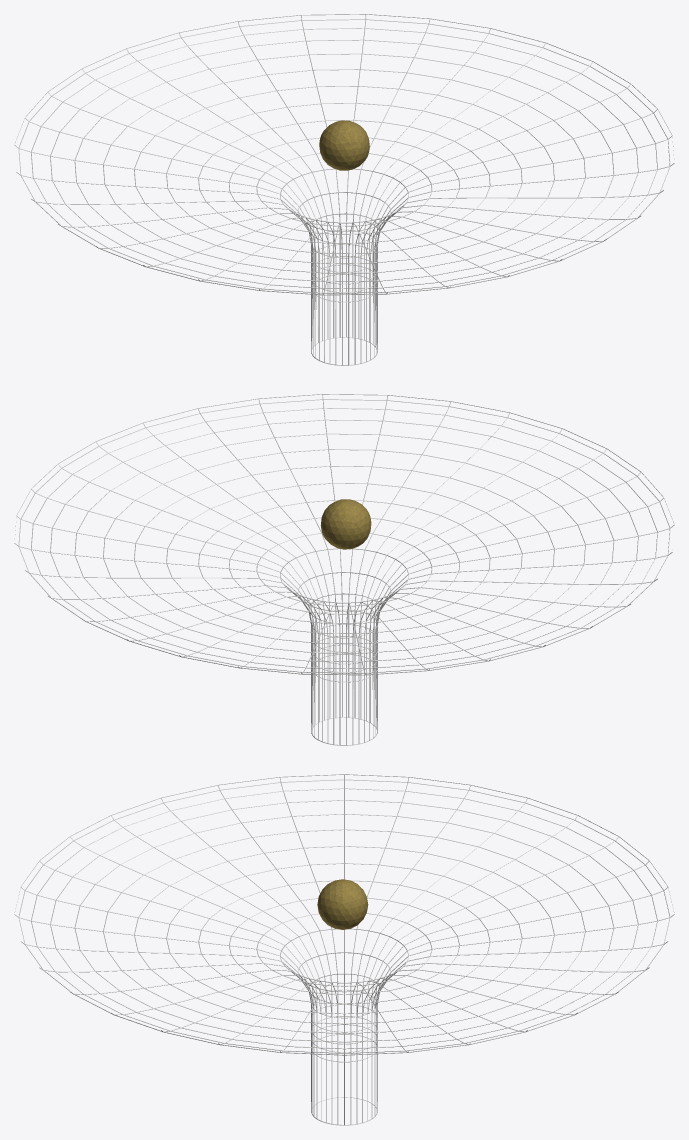
Rendered from globe v2-4 (1).gltf.
The picture shows the model from 3 angles, top to bottom: view 1: azimuth 30°, elevation 25°; view 2: azimuth 150°, elevation 25°; view 3: azimuth 270°, elevation 25°; orthographic projection.
Visible parts, largest first — view 1: Cylinder, Icosphere.000; view 2: Cylinder, Icosphere.000; view 3: Cylinder, Icosphere.000.
Boxes of the visible parts, <box> form: Cylinder: <box>14,14,674,365</box>; Icosphere.000: <box>319,120,369,170</box>; Cylinder: <box>14,394,674,745</box>; Icosphere.000: <box>320,499,371,549</box>; Cylinder: <box>14,774,674,1125</box>; Icosphere.000: <box>317,879,368,929</box>.
Size of the model in its own units: 24.21 by 9.29 by 24.21.
Materials: 1 (1 with a texture image).
